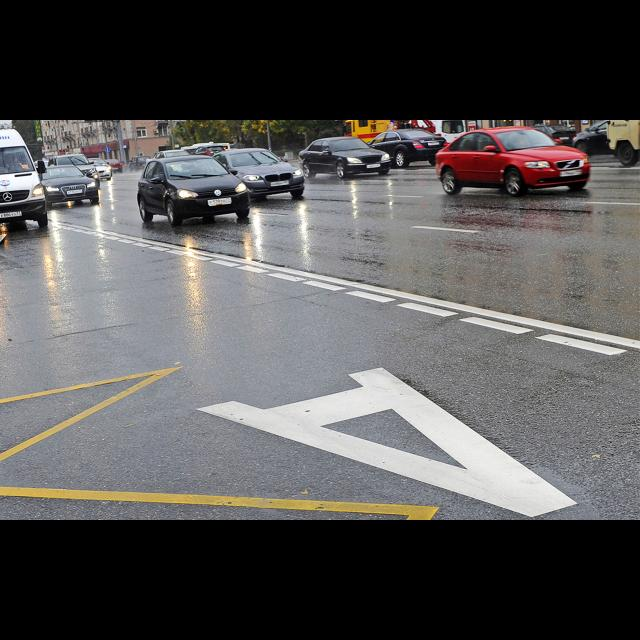road: (0, 168, 640, 520)
